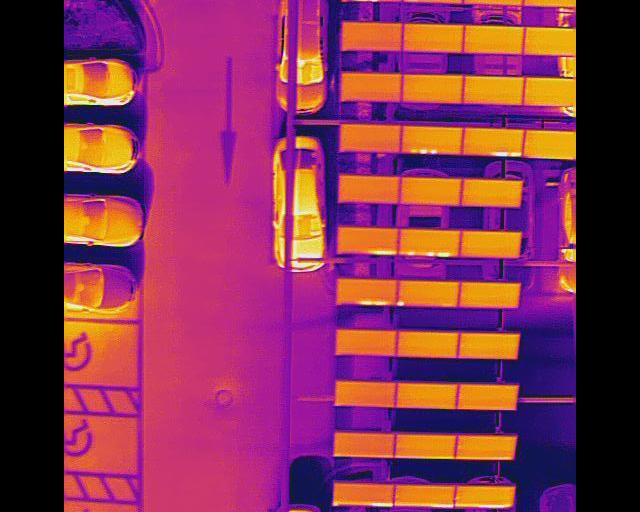Cell: (396, 280, 459, 306)
Cell-Multi: (399, 125, 464, 153), (398, 228, 461, 255)
No-Anomaly: (462, 23, 523, 53), (403, 21, 464, 51), (340, 122, 403, 151), (402, 72, 464, 101), (395, 329, 458, 357), (398, 176, 463, 203), (341, 72, 403, 100), (342, 22, 404, 50), (335, 327, 398, 354), (340, 174, 400, 202), (460, 178, 524, 204), (463, 75, 524, 102), (458, 331, 519, 358), (460, 230, 521, 257), (334, 379, 397, 405), (396, 382, 458, 408), (333, 430, 396, 455), (456, 282, 521, 306), (394, 432, 456, 457), (458, 383, 518, 408), (456, 433, 515, 458), (524, 27, 576, 55), (525, 76, 576, 104)
Unclassified: (464, 127, 525, 156), (336, 226, 398, 253), (337, 276, 398, 303), (393, 482, 456, 506), (333, 482, 396, 506), (454, 485, 515, 507)
